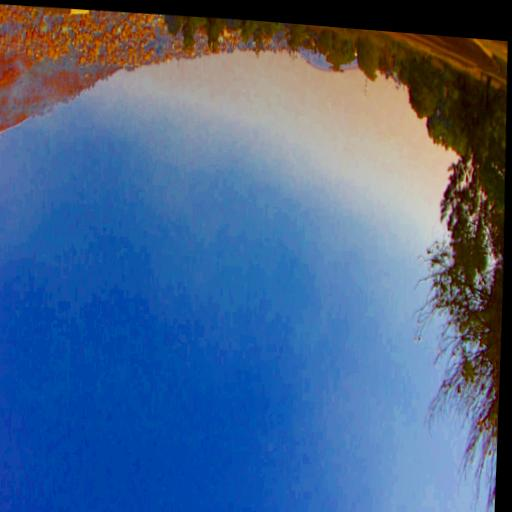drones: (215, 163, 220, 168)
